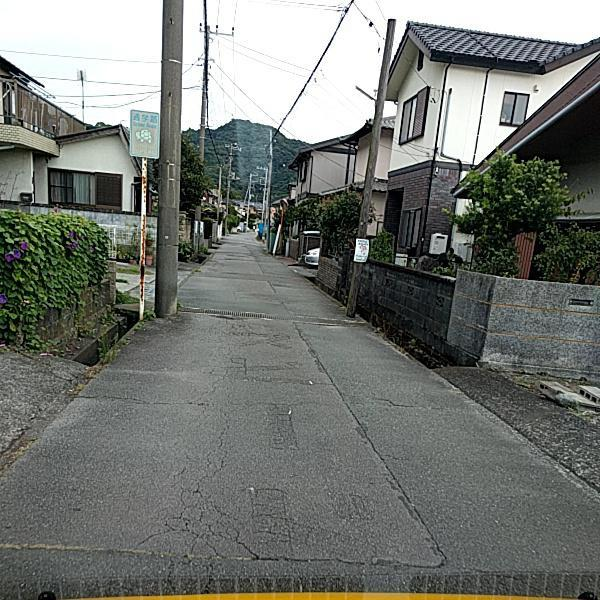D10: (74, 384, 208, 410), (359, 394, 421, 408)
D20: (131, 408, 272, 582)
